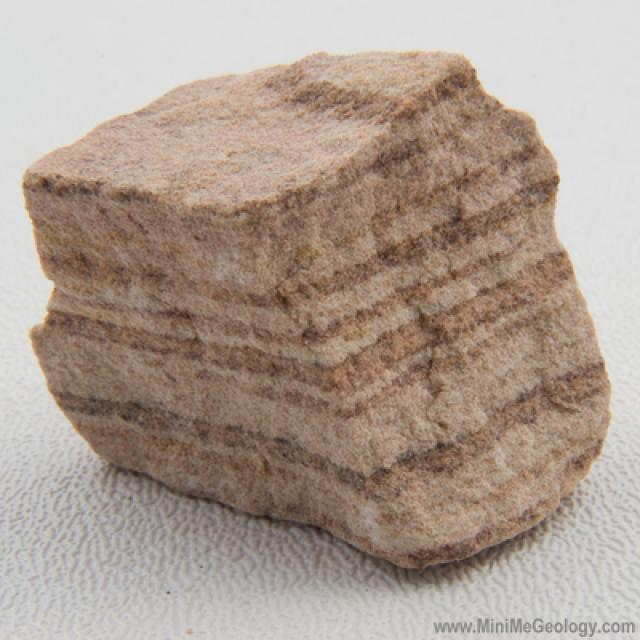Sedimentary: (14, 44, 621, 570)
